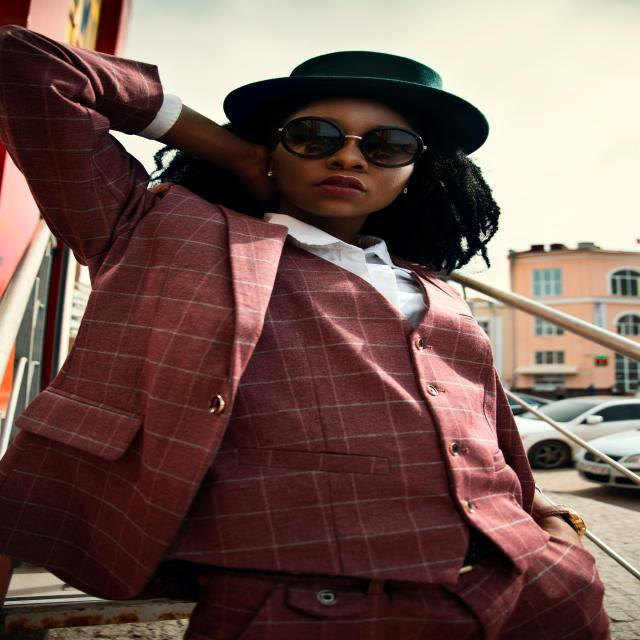no_hard_hat: (224, 51, 489, 153)
person: (2, 26, 609, 640)
